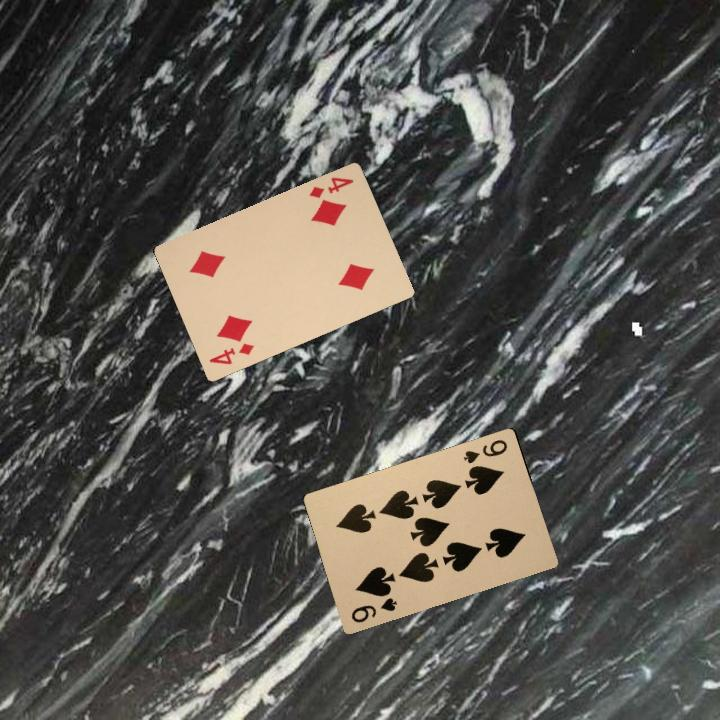4d: (205, 339, 257, 367), (305, 173, 356, 201)
9s: (347, 594, 400, 625), (459, 435, 510, 466)
